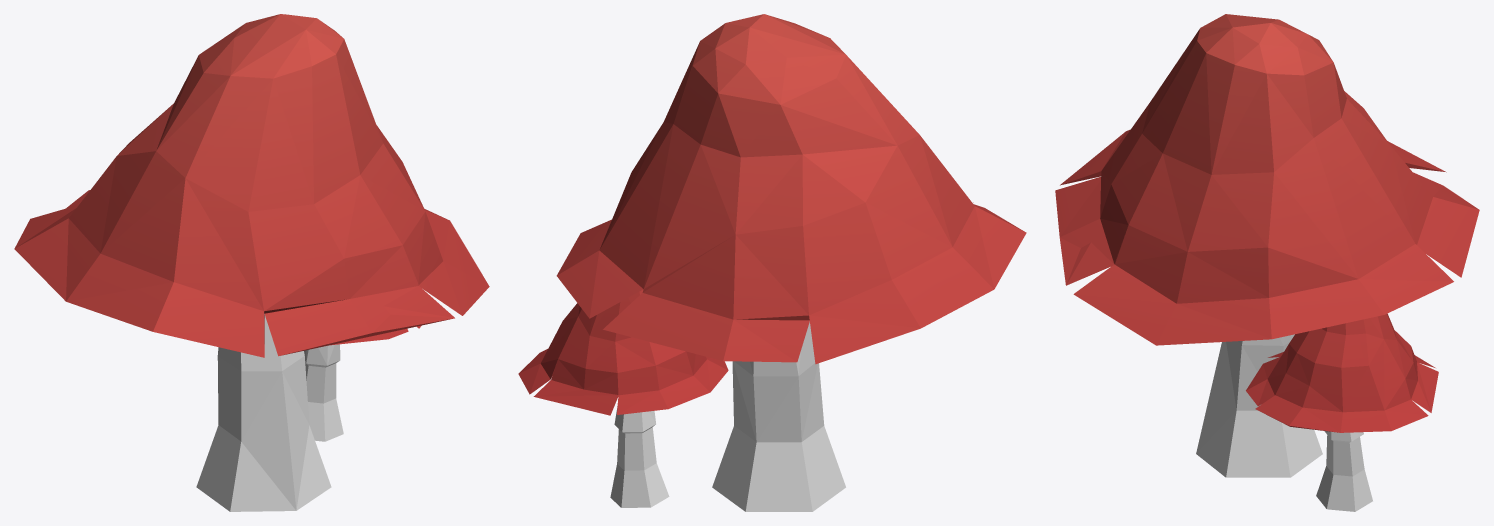
Rendered from Mushroom_07.fbx.
3 views of the same model, side by side, from view 1: azimuth 30°, elevation 25°; view 2: azimuth 150°, elevation 25°; view 3: azimuth 270°, elevation 25° (orthographic). The views are drawn at different scales.
Visible parts, largest first — view 1: Mushroom_07; view 2: Mushroom_07; view 3: Mushroom_07.
Boxes of the visible parts, x1,y1,x2,y2 form: Mushroom_07: (14,14,489,511); Mushroom_07: (518,14,1026,511); Mushroom_07: (1055,14,1479,511).
Bounding box in the file's own units: 0.5214 × 0.571 × 0.4945.
